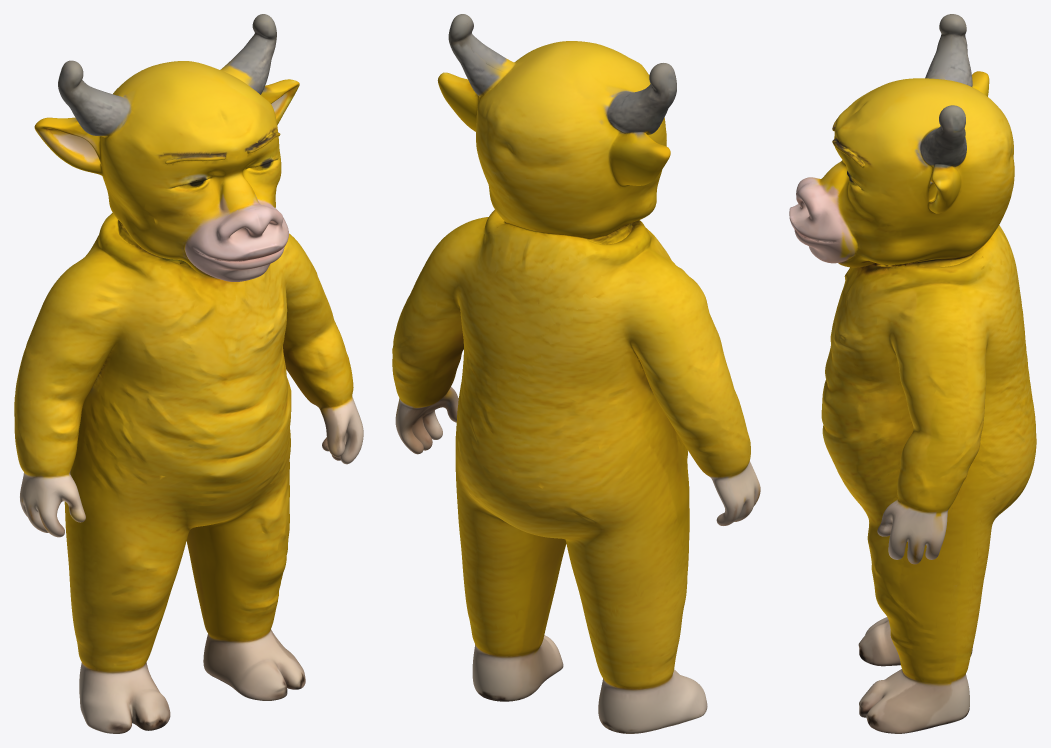
File: niulai.glb
The picture shows the model from 3 angles, left to right: view 1: azimuth 30°, elevation 25°; view 2: azimuth 150°, elevation 25°; view 3: azimuth 270°, elevation 25°; orthographic projection. The views are drawn at different scales.
Visible parts, largest first — view 1: node_0.002; view 2: node_0.002; view 3: node_0.002.
Part boxes in pixels (x1,y1,x2,y2): node_0.002: (14,14,363,733); node_0.002: (392,14,760,733); node_0.002: (789,14,1036,733).
Size of the model in its own units: 1.19 by 2.2 by 0.7882.
Materials: 1 (1 with a texture image).
